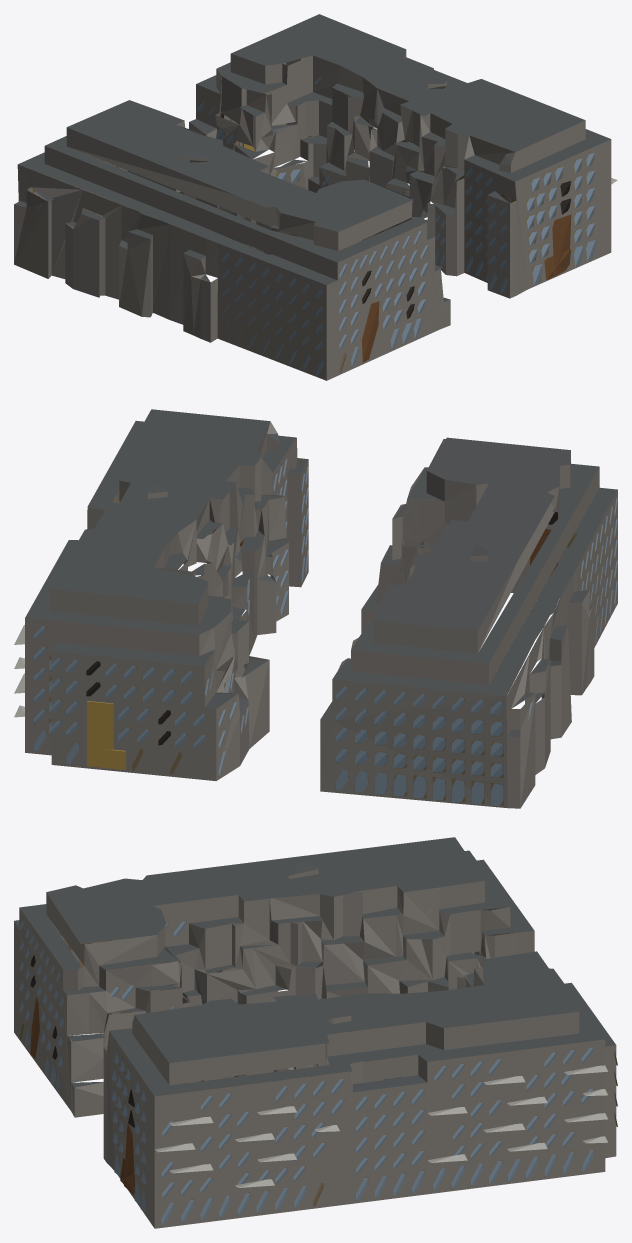
The model's file is ceramiquelaan-437.lod1.glb.
3 renders of one model, top to bottom at view 1: azimuth 30°, elevation 25°; view 2: azimuth 150°, elevation 25°; view 3: azimuth 270°, elevation 25°, orthographic. The views are drawn at different scales.
Parts seen in each view (by area): view 1: ceramiquelaan-437; view 2: ceramiquelaan-437; view 3: ceramiquelaan-437.
Part boxes in pixels (bbox=[...]): ceramiquelaan-437: bbox=[14, 14, 617, 380]; ceramiquelaan-437: bbox=[14, 409, 617, 808]; ceramiquelaan-437: bbox=[14, 837, 617, 1228].
Size of the model in its own units: 84.58 by 23.74 by 80.95.
